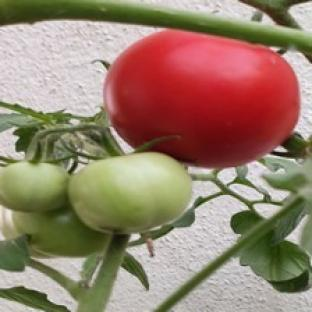Tomato: (105, 30, 299, 168), (69, 152, 192, 233), (12, 205, 110, 257), (0, 162, 69, 211)
